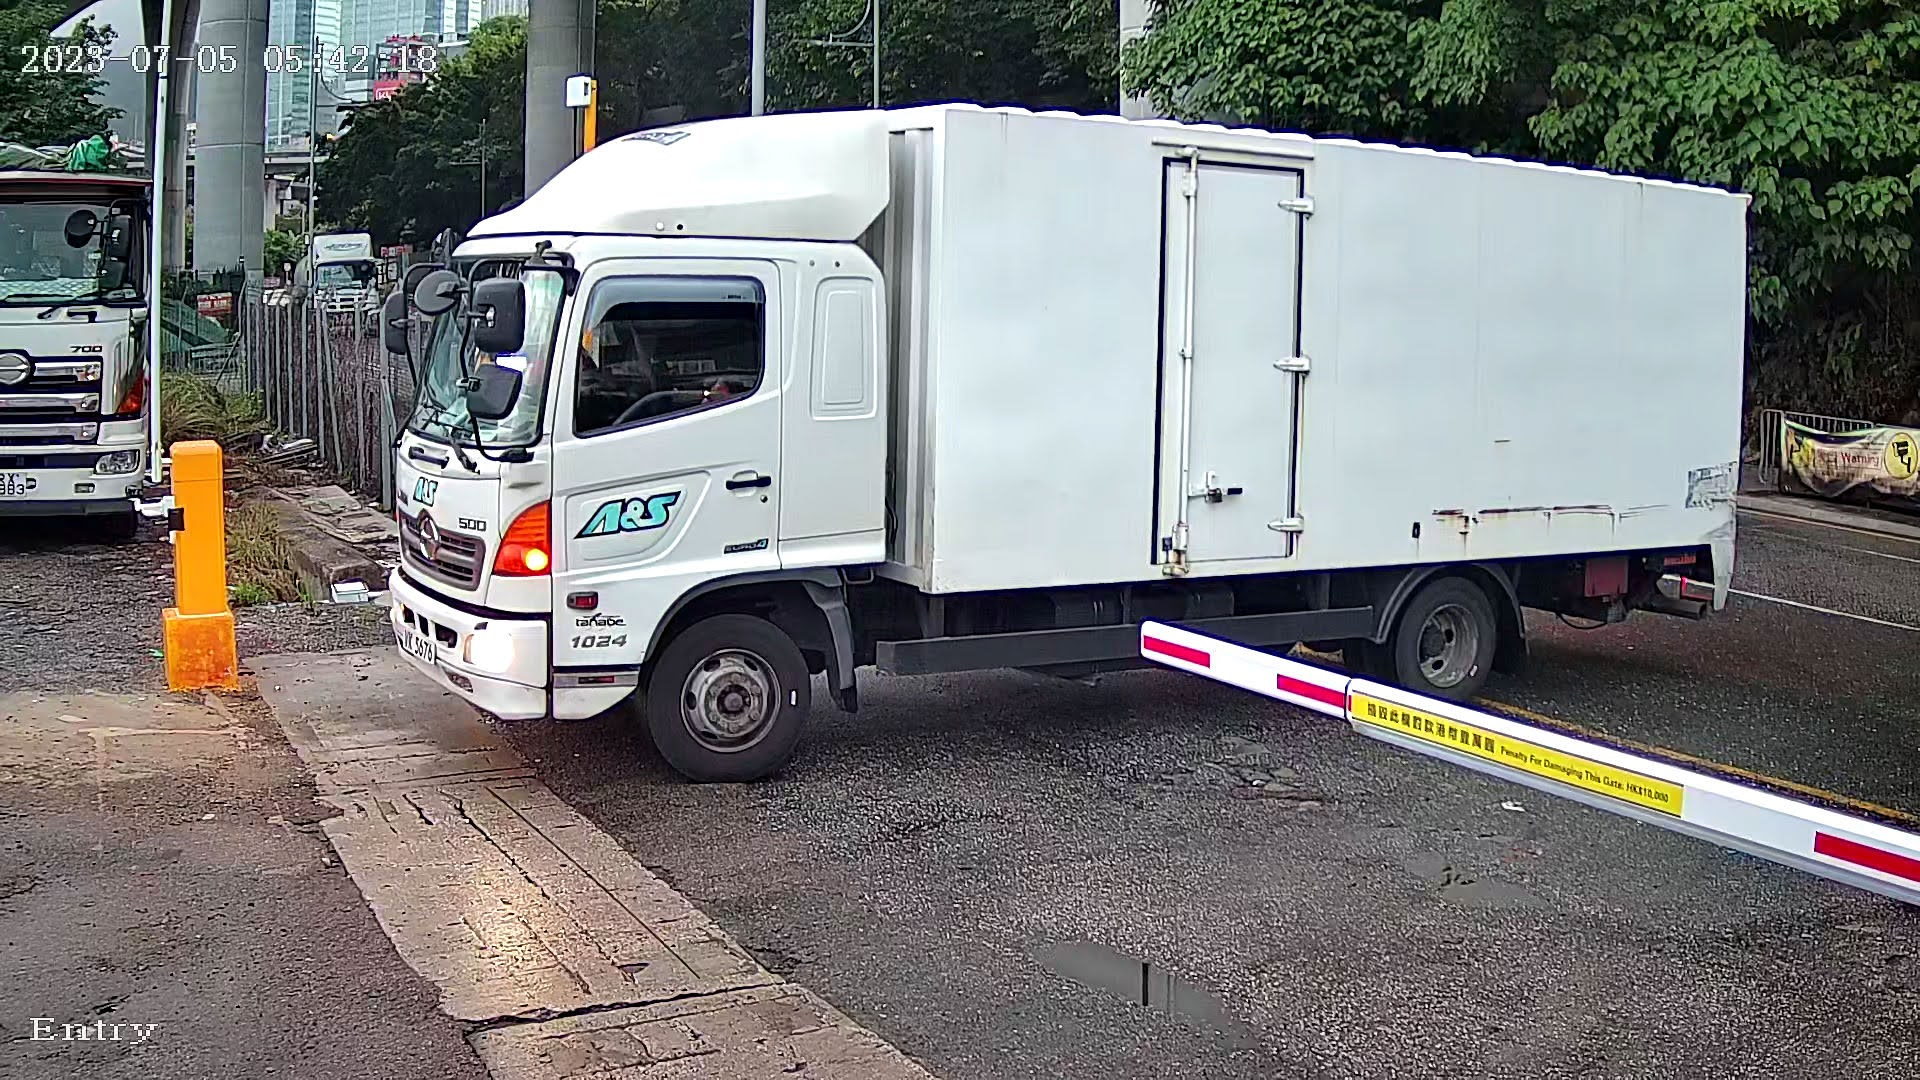truck: (361, 61, 1815, 783)
